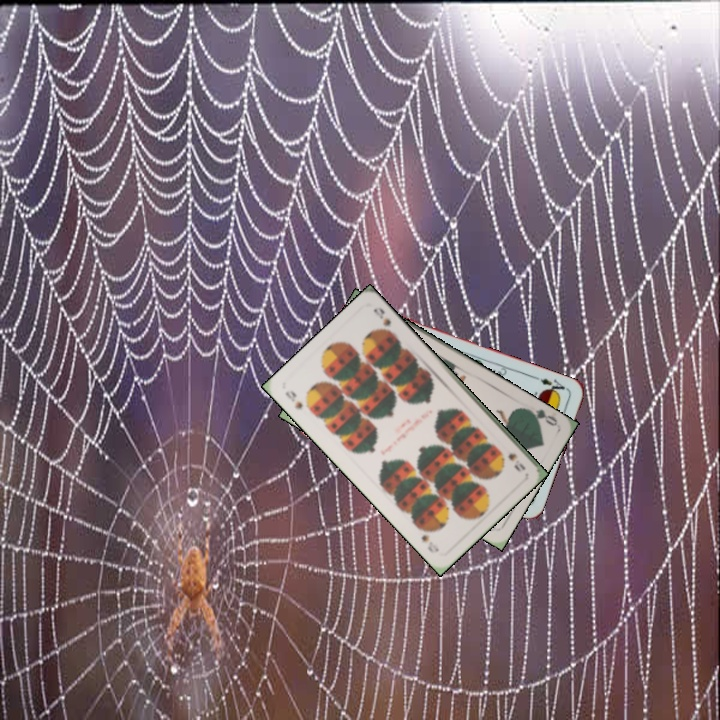EA: (531, 372, 570, 397)
GO: (521, 404, 560, 429)
S9: (281, 386, 305, 412), (504, 449, 528, 474)
